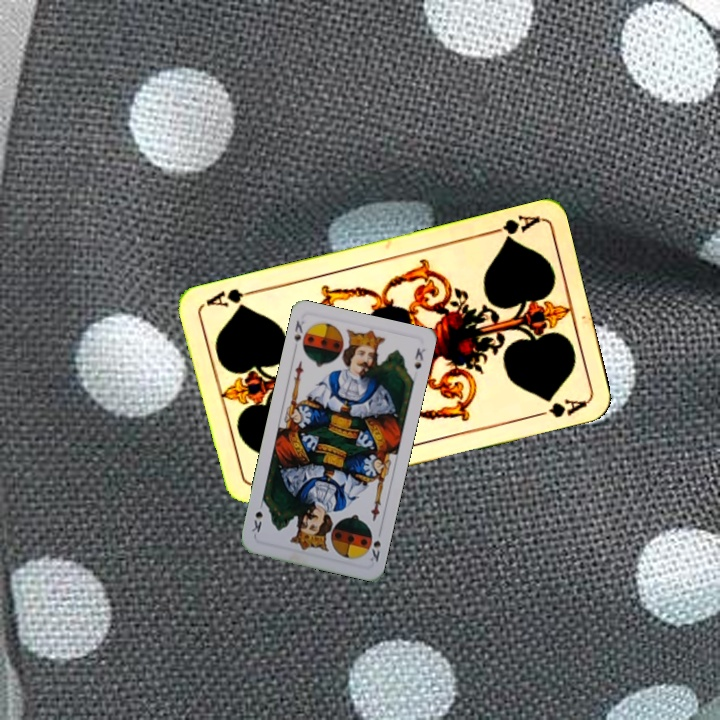GA: (483, 211, 541, 244)
SK: (290, 316, 311, 355), (365, 536, 383, 565)
